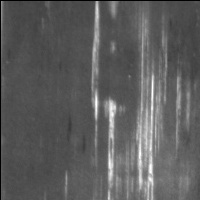scratches: (134, 67, 171, 200), (99, 95, 130, 200), (87, 1, 107, 123)
